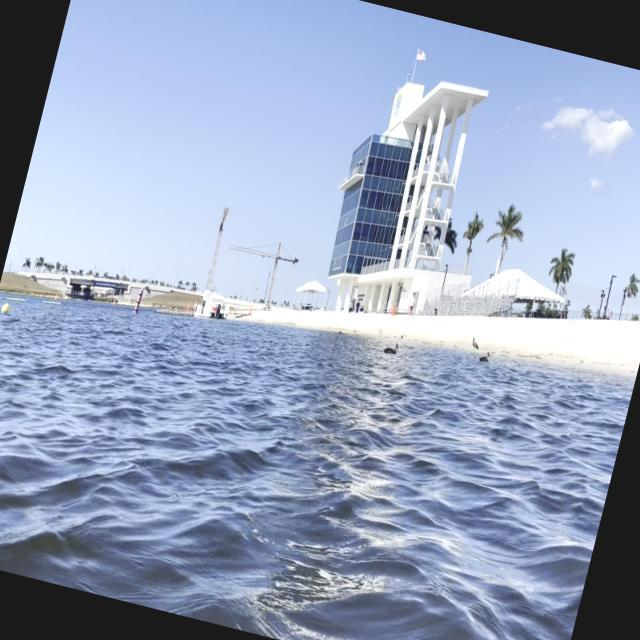buoy: (1, 299, 10, 311)
